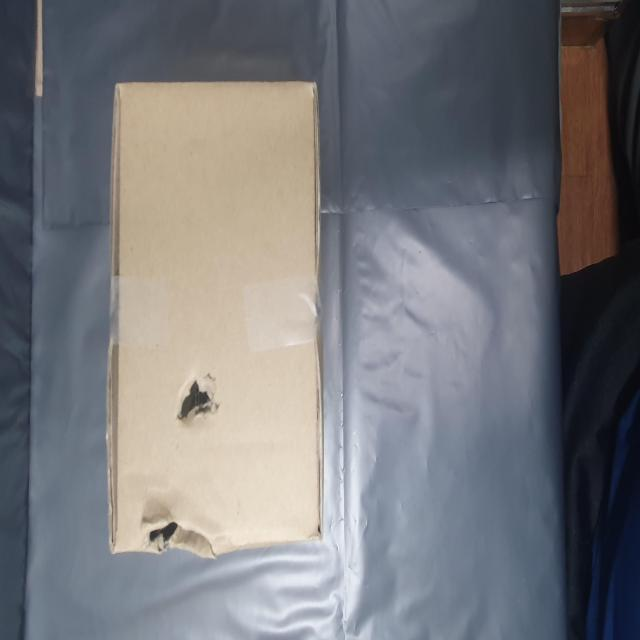damaged: (38, 257, 77, 381), (114, 311, 152, 393)
